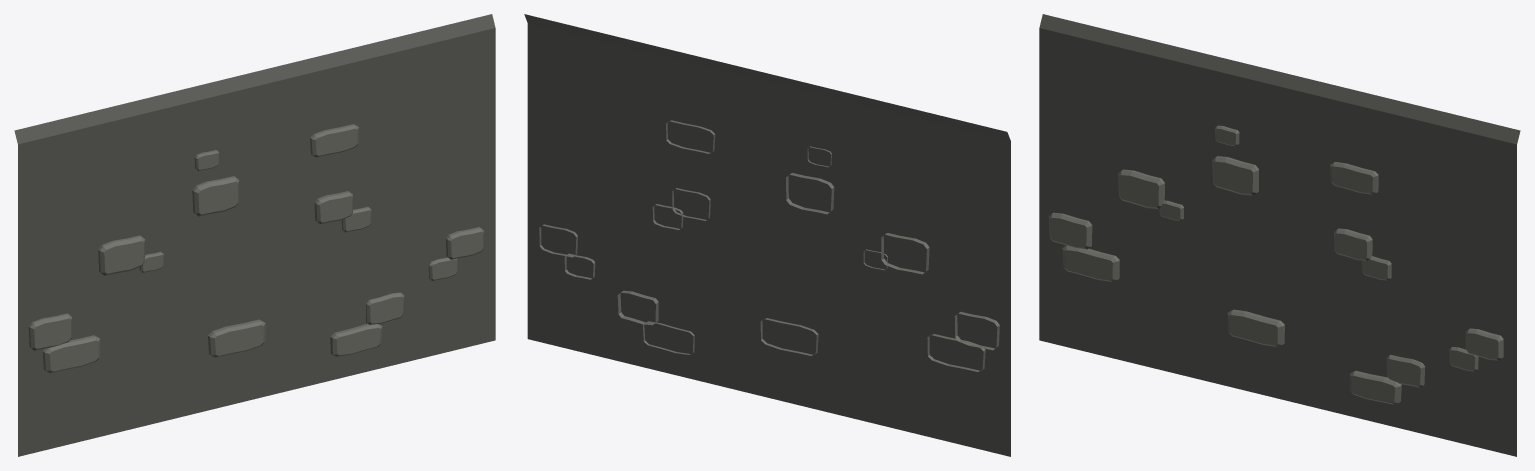
Rendered from Dungeon_Big_Wall.glb.
The picture shows the model from 3 angles, left to right: view 1: azimuth 30°, elevation 25°; view 2: azimuth 150°, elevation 25°; view 3: azimuth 330°, elevation 25°; orthographic projection.
Visible parts, largest first — view 1: Dungeon_Big_Wall; view 2: Dungeon_Big_Wall; view 3: Dungeon_Big_Wall.
Boxes of the visible parts, x1=… form: Dungeon_Big_Wall: x1=14, y1=14, x2=495, y2=456; Dungeon_Big_Wall: x1=524, y1=14, x2=1010, y2=456; Dungeon_Big_Wall: x1=1039, y1=14, x2=1520, y2=456.
Size of the model in its own units: 8 by 5.18 by 0.2076.
Materials: 1 (1 with a texture image).
